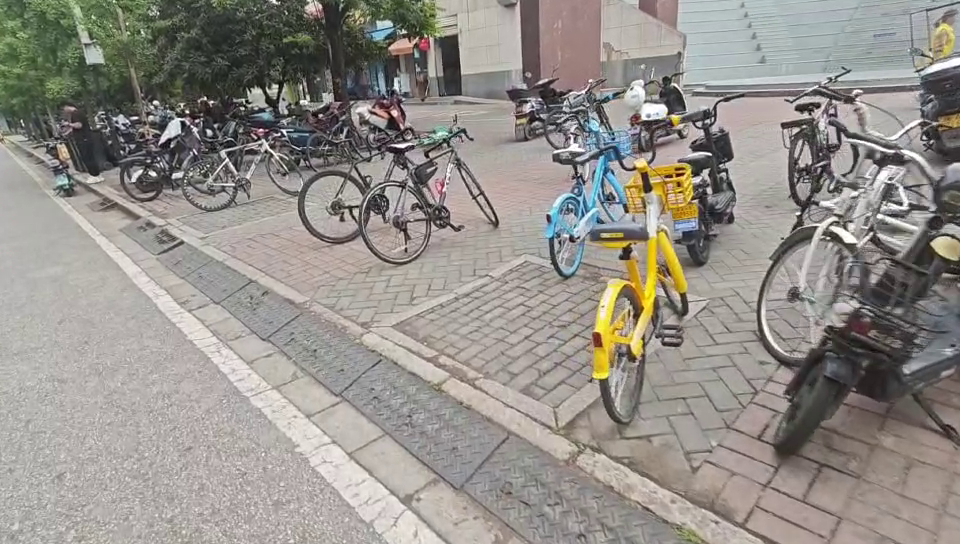others: (821, 118, 960, 481), (759, 118, 951, 353), (359, 129, 503, 264), (302, 123, 431, 238), (770, 66, 853, 201), (181, 127, 301, 212), (118, 126, 237, 197)
shared_bike_haluo: (551, 87, 631, 285)
shared_bike_meituan: (584, 117, 694, 429)
